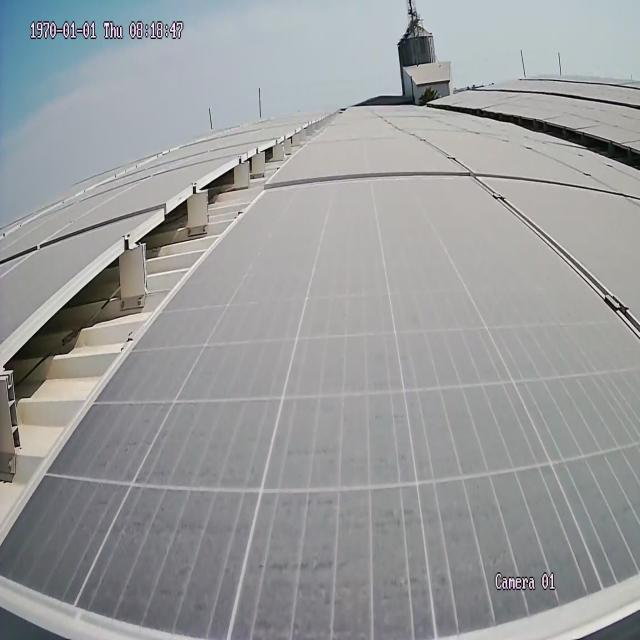interior panel: (0, 569, 638, 640), (482, 187, 636, 343), (279, 166, 471, 193)
outher panel: (2, 114, 335, 531), (495, 114, 640, 175)
